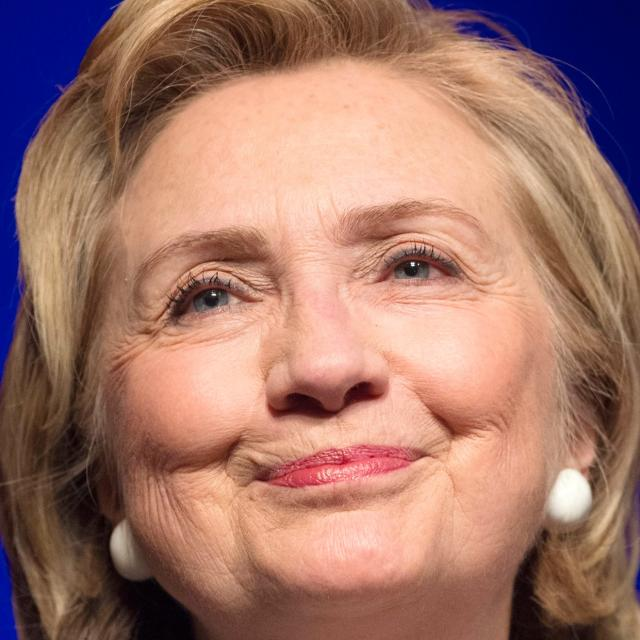Normal: (101, 52, 569, 615)
